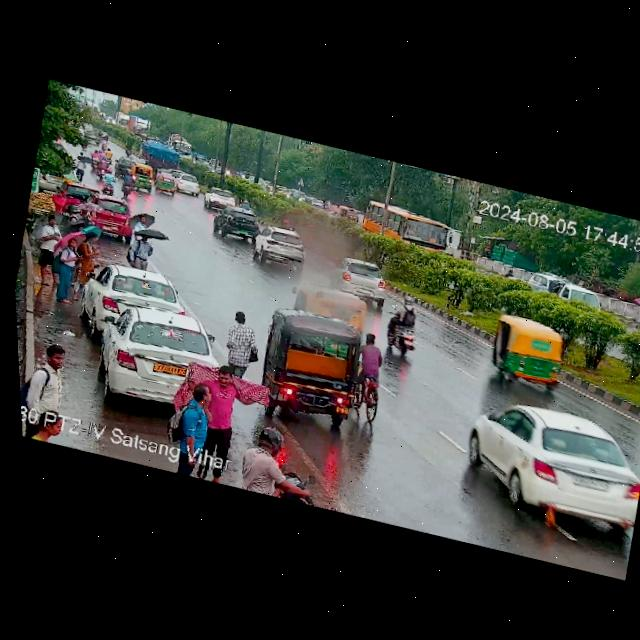bus: (356, 196, 462, 259)
car: (458, 392, 640, 536), (253, 298, 373, 434), (90, 300, 230, 414), (79, 256, 187, 338), (479, 308, 573, 397), (249, 225, 316, 275), (330, 253, 392, 306), (82, 193, 135, 238), (211, 199, 257, 243), (557, 280, 608, 309), (202, 186, 242, 212), (126, 161, 157, 194), (171, 172, 203, 197), (153, 177, 179, 197), (154, 167, 178, 184)
motorcycle: (345, 330, 391, 426), (376, 289, 430, 360), (139, 131, 189, 172), (85, 143, 117, 179), (99, 166, 117, 192), (119, 170, 135, 199)
person: (232, 417, 338, 509), (115, 206, 172, 272), (27, 337, 80, 404), (202, 363, 247, 438), (177, 382, 219, 449), (32, 209, 66, 284), (219, 306, 260, 368), (51, 234, 82, 301), (74, 227, 103, 288), (49, 189, 67, 212), (72, 154, 89, 178)
